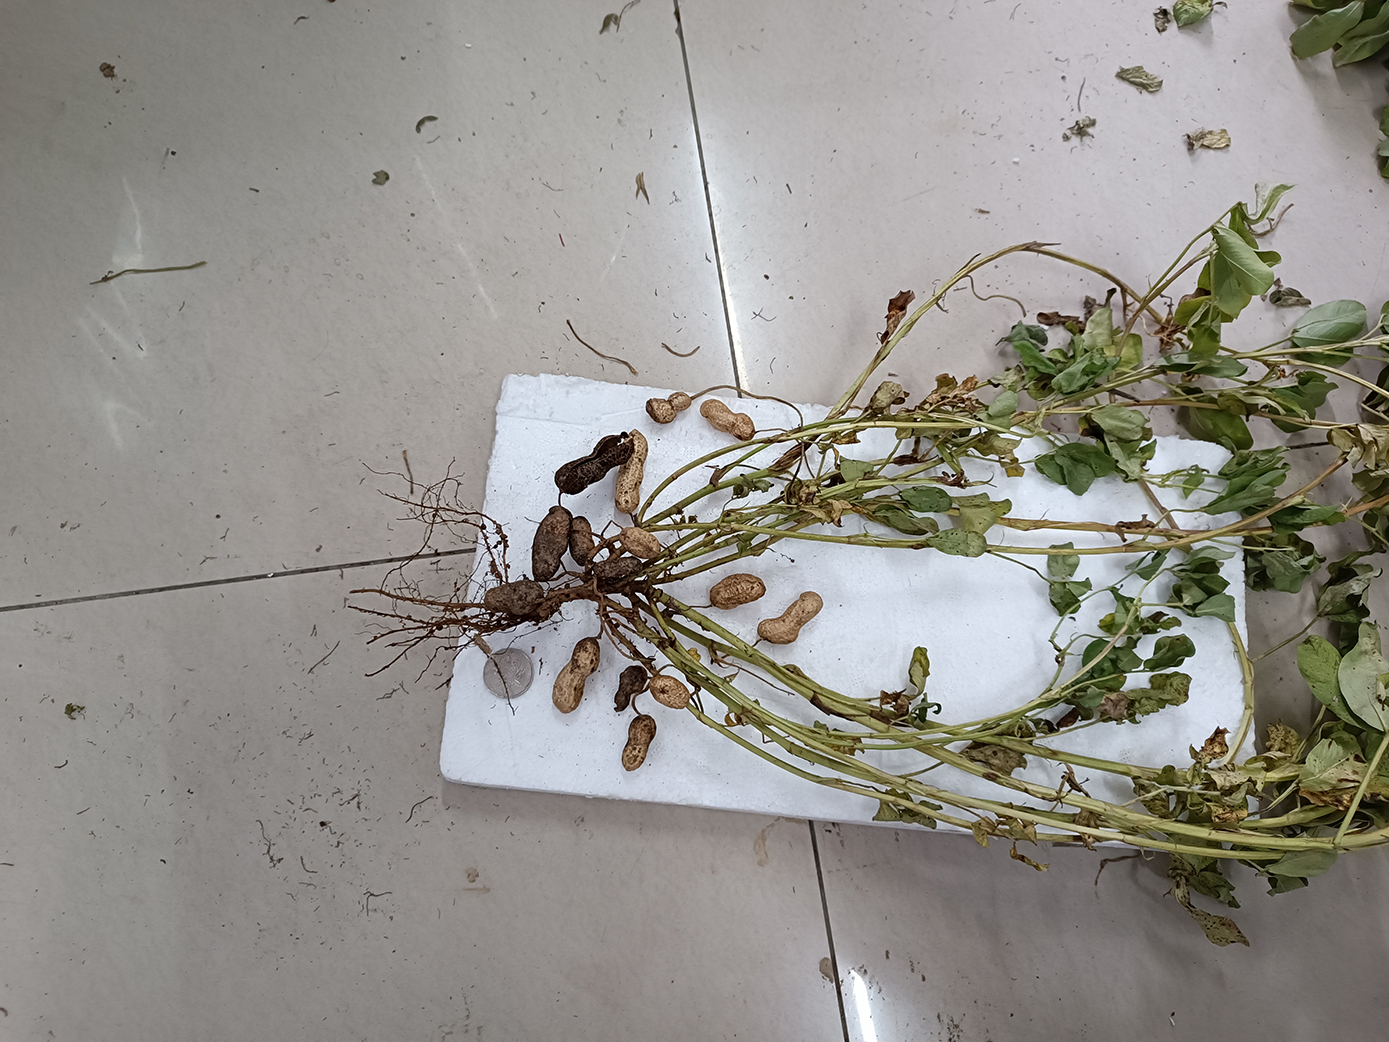h: (552, 637, 599, 713), (757, 592, 825, 644), (614, 430, 649, 516), (699, 398, 755, 441), (706, 574, 767, 607), (645, 392, 692, 424), (617, 526, 661, 559), (650, 675, 688, 709)
l: (554, 433, 633, 495), (531, 503, 568, 580), (485, 580, 544, 617), (620, 716, 657, 771), (615, 665, 647, 713), (584, 556, 640, 581), (571, 513, 595, 565)
